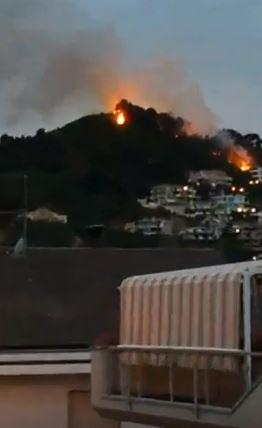fire: (112, 108, 128, 130), (237, 158, 257, 173)
